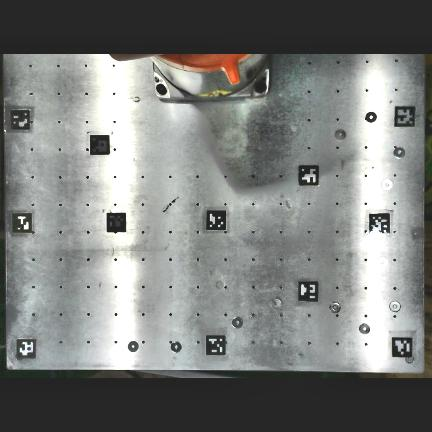marker: (394, 107, 415, 128), (12, 213, 32, 234), (370, 214, 390, 234), (299, 166, 319, 186), (298, 282, 318, 302), (206, 337, 226, 357), (10, 111, 29, 132), (207, 210, 226, 231), (392, 338, 412, 357), (17, 339, 36, 359), (107, 213, 126, 232), (90, 136, 109, 154)
washer: (376, 256, 388, 268), (271, 297, 283, 309), (334, 130, 346, 140), (393, 147, 404, 157), (381, 178, 391, 189), (231, 317, 242, 327), (127, 340, 137, 351), (365, 111, 375, 121), (359, 323, 369, 333), (170, 342, 180, 352), (330, 301, 339, 312), (389, 301, 399, 310)
